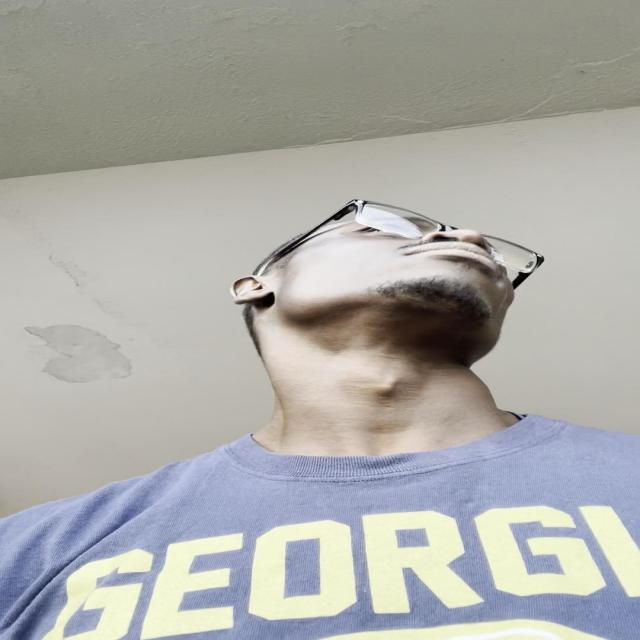NO-Mask: (264, 209, 518, 347)
